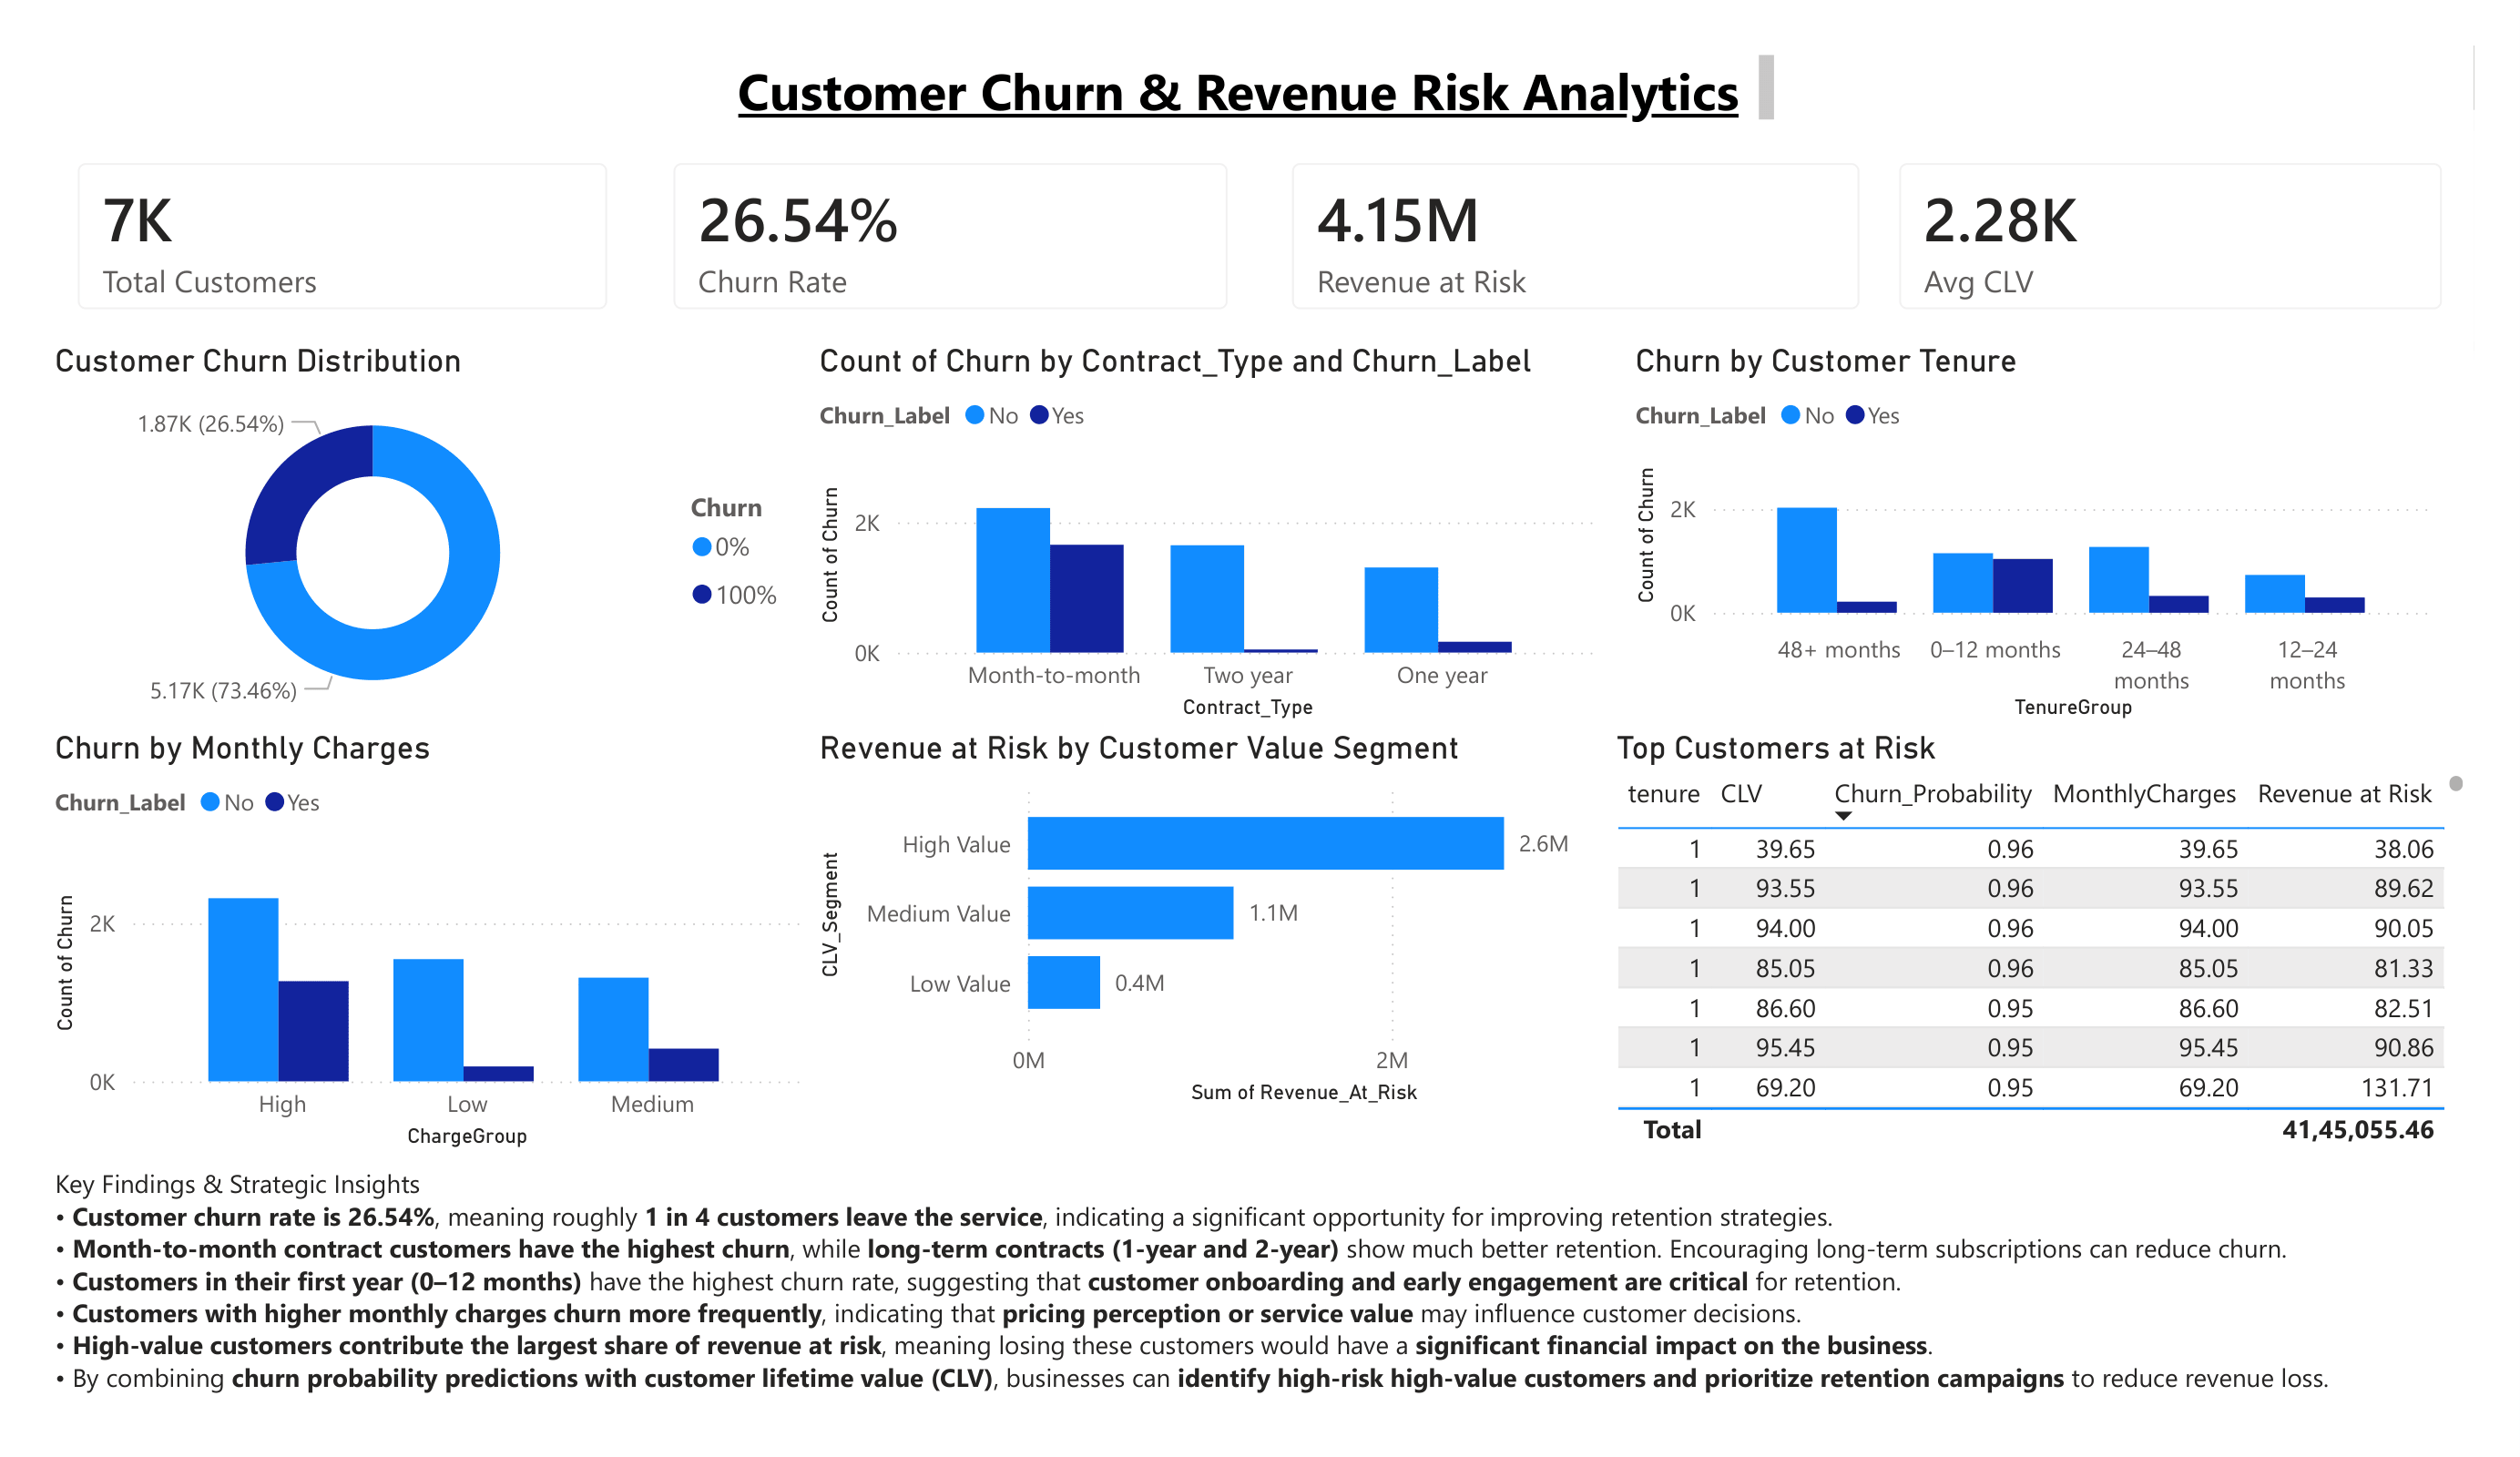

This screenshot's page, from the dashboard's own definition file:
{"tool":"powerbi","page":{"name":"Page 1","canvas":[1280,720],"ordinal":0},"visuals":[{"type":"cardVisual","fields":{"Data":["churn_dashboard_dataset.Total Customers"]},"box":[0,45,313.8,111.2],"z":0},{"type":"cardVisual","fields":{"Data":["churn_dashboard_dataset.Churn Rate"]},"box":[313.8,45,326.2,111.2],"z":1000},{"type":"cardVisual","fields":{"Data":["churn_dashboard_dataset.Revenue at Risk"]},"box":[640,45,333.8,111.2],"z":2000},{"type":"cardVisual","fields":{"Data":["churn_dashboard_dataset.Avg CLV"]},"box":[960,45,320,111.2],"z":3000},{"type":"donutChart","title":"Customer Churn Distribution","fields":{"Category":["churn_dashboard_dataset.Churn"],"Y":["CountNonNull(churn_dashboard_dataset.Churn)"]},"box":[0,156.2,402.5,203.8],"z":4000},{"type":"clusteredColumnChart","fields":{"Category":["churn_dashboard_dataset.Contract_Type"],"Y":["CountNonNull(churn_dashboard_dataset.Churn)"],"Series":["churn_dashboard_dataset.Churn_Label"]},"box":[402.5,156.2,420,203.8],"z":5000},{"type":"clusteredColumnChart","title":"Churn by Customer Tenure","fields":{"Category":["churn_dashboard_dataset.TenureGroup"],"Y":["CountNonNull(churn_dashboard_dataset.Churn)"],"Series":["churn_dashboard_dataset.Churn_Label"]},"box":[832.5,156.2,430,203.8],"z":6000},{"type":"clusteredColumnChart","title":"Churn by Monthly Charges","fields":{"Category":["churn_dashboard_dataset.ChargeGroup"],"Series":["churn_dashboard_dataset.Churn_Label"],"Y":["CountNonNull(churn_dashboard_dataset.Churn)"]},"box":[0,360,402.5,226.2],"z":7000},{"type":"clusteredBarChart","title":"Revenue at Risk by Customer Value Segment","fields":{"Category":["churn_dashboard_dataset.CLV_Segment"],"Y":["Sum(churn_dashboard_dataset.Revenue_At_Risk)"]},"box":[402.5,360,420,202.5],"z":8000},{"type":"tableEx","title":"Top Customers at Risk","fields":{"Values":["churn_dashboard_dataset.tenure","churn_dashboard_dataset.CLV","churn_dashboard_dataset.Churn_Probability","churn_dashboard_dataset.MonthlyCharges","churn_dashboard_dataset.Revenue at Risk"]},"box":[822.5,360,457.5,226.2],"z":8001},{"type":"textbox","box":[0,586.2,1280,133.8],"z":8002},{"type":"textbox","box":[360,0,556.2,45],"z":8003}]}

Visuals, with their boxes on the page's 1280x720 design canvas (x1, y1, x2, y2). These are canvas units, not pixel positions in the 2520x1457 screenshot, which may show the page scaled, cropped or inside an application window:
cardVisual - churn_dashboard_dataset.Total Customers: x1=0 y1=45 x2=314 y2=156
cardVisual - churn_dashboard_dataset.Churn Rate: x1=314 y1=45 x2=640 y2=156
cardVisual - churn_dashboard_dataset.Revenue at Risk: x1=640 y1=45 x2=974 y2=156
cardVisual - churn_dashboard_dataset.Avg CLV: x1=960 y1=45 x2=1280 y2=156
"Customer Churn Distribution" donutChart: x1=0 y1=156 x2=402 y2=360
clusteredColumnChart - churn_dashboard_dataset.Contract_Type x CountNonNull(churn_dashboard_dataset.Churn): x1=402 y1=156 x2=822 y2=360
"Churn by Customer Tenure" clusteredColumnChart: x1=832 y1=156 x2=1262 y2=360
"Churn by Monthly Charges" clusteredColumnChart: x1=0 y1=360 x2=402 y2=586
"Revenue at Risk by Customer Value Segment" clusteredBarChart: x1=402 y1=360 x2=822 y2=562
"Top Customers at Risk" tableEx: x1=822 y1=360 x2=1280 y2=586
textbox: x1=0 y1=586 x2=1280 y2=720
textbox: x1=360 y1=0 x2=916 y2=45
